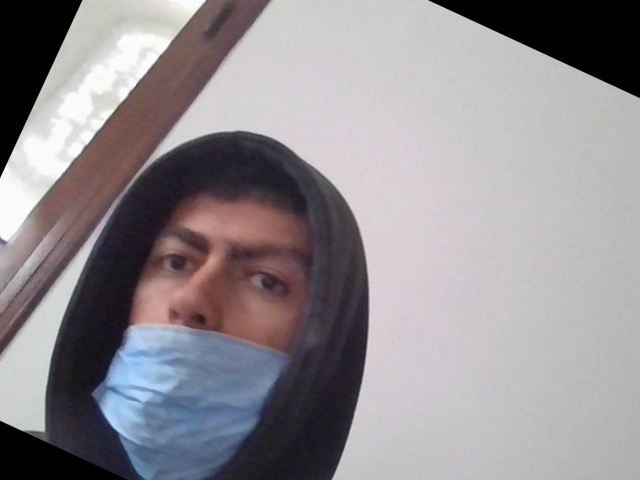mask_weared_incorrect: (90, 166, 313, 480)
